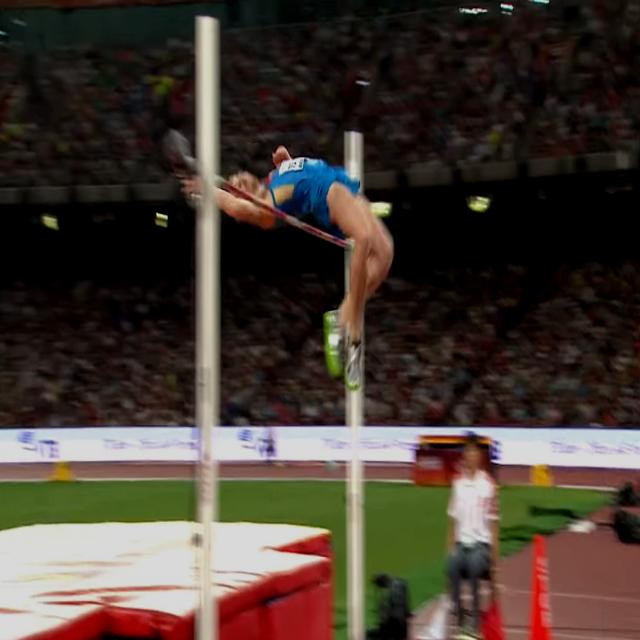jump: (181, 147, 393, 389)
